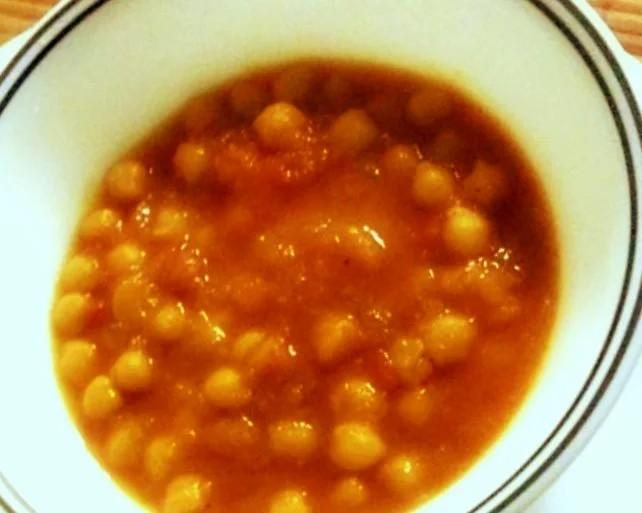Chole: (50, 58, 563, 513)
